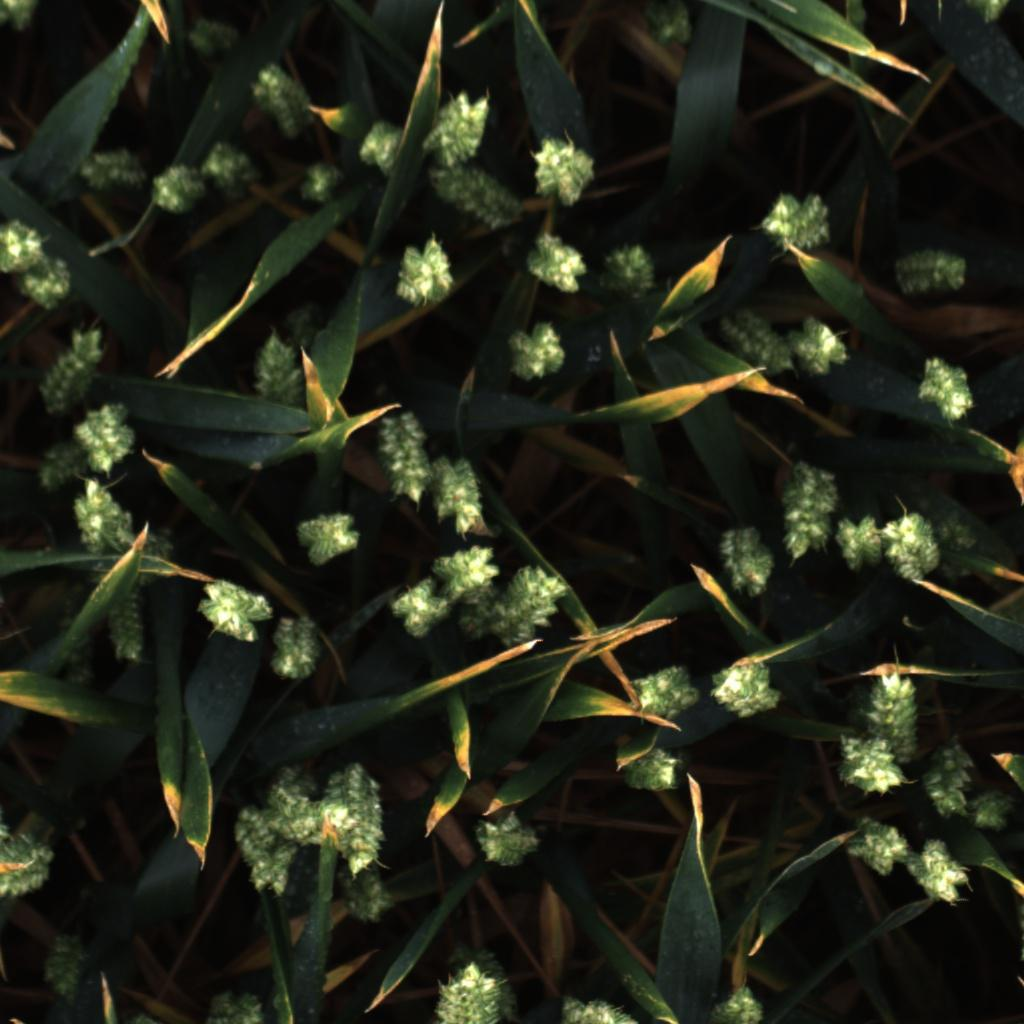0-0: (451, 564, 571, 649), (427, 148, 528, 234), (316, 759, 391, 873), (846, 666, 924, 768), (775, 461, 842, 569), (263, 762, 347, 847), (752, 188, 838, 267), (226, 802, 299, 895), (418, 86, 500, 167), (836, 726, 920, 801), (40, 323, 113, 407), (371, 411, 436, 505), (526, 131, 605, 207), (69, 474, 140, 558), (889, 241, 979, 307), (386, 233, 463, 310), (719, 302, 792, 378), (628, 653, 701, 729), (704, 652, 780, 725), (907, 834, 974, 916), (188, 578, 271, 644), (242, 323, 307, 407), (72, 402, 144, 477), (711, 523, 779, 602), (874, 508, 944, 584), (250, 62, 319, 139), (500, 315, 573, 387), (433, 955, 508, 1024), (912, 352, 981, 426), (469, 808, 545, 875), (55, 591, 99, 705), (514, 229, 587, 296), (106, 524, 179, 591), (923, 502, 981, 586), (784, 314, 852, 385), (429, 457, 490, 536), (0, 817, 58, 899), (289, 505, 362, 568), (925, 739, 978, 824), (178, 2, 247, 67), (594, 237, 664, 301), (37, 929, 92, 1010), (386, 566, 447, 639), (844, 805, 907, 874), (434, 539, 508, 597), (74, 137, 147, 195), (200, 135, 264, 200), (347, 109, 409, 176), (265, 616, 324, 686), (12, 252, 77, 314), (614, 744, 683, 800), (833, 506, 887, 577), (338, 868, 393, 935), (634, 0, 702, 54), (145, 160, 209, 217), (105, 589, 151, 666), (556, 985, 644, 1024), (295, 155, 350, 210), (0, 213, 45, 278), (964, 784, 1019, 836), (29, 437, 78, 494), (704, 982, 769, 1024), (203, 988, 269, 1024), (273, 299, 312, 358), (0, 0, 37, 35)
